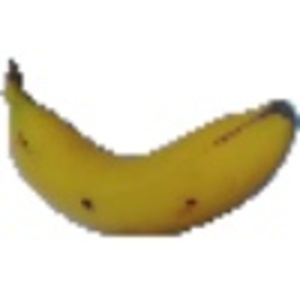banana: (1, 50, 294, 242)
